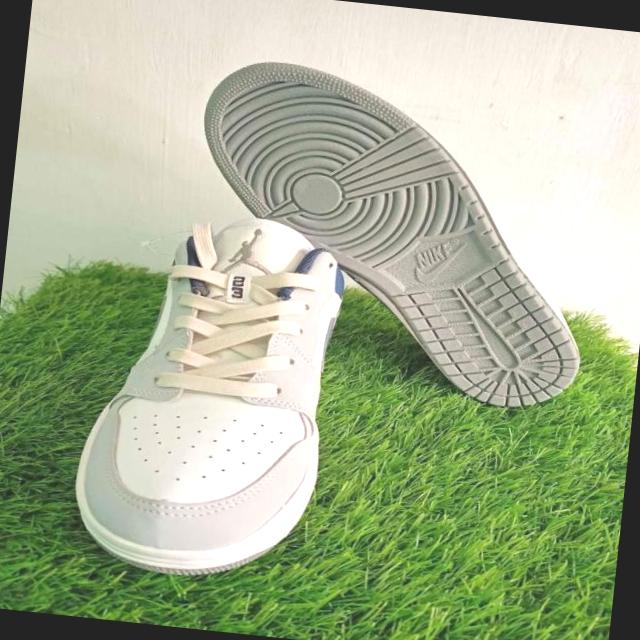nike_fake_jordan: (67, 200, 361, 587)
